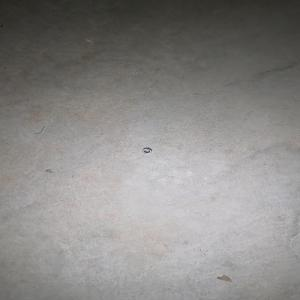Nut: (142, 147, 153, 154)
